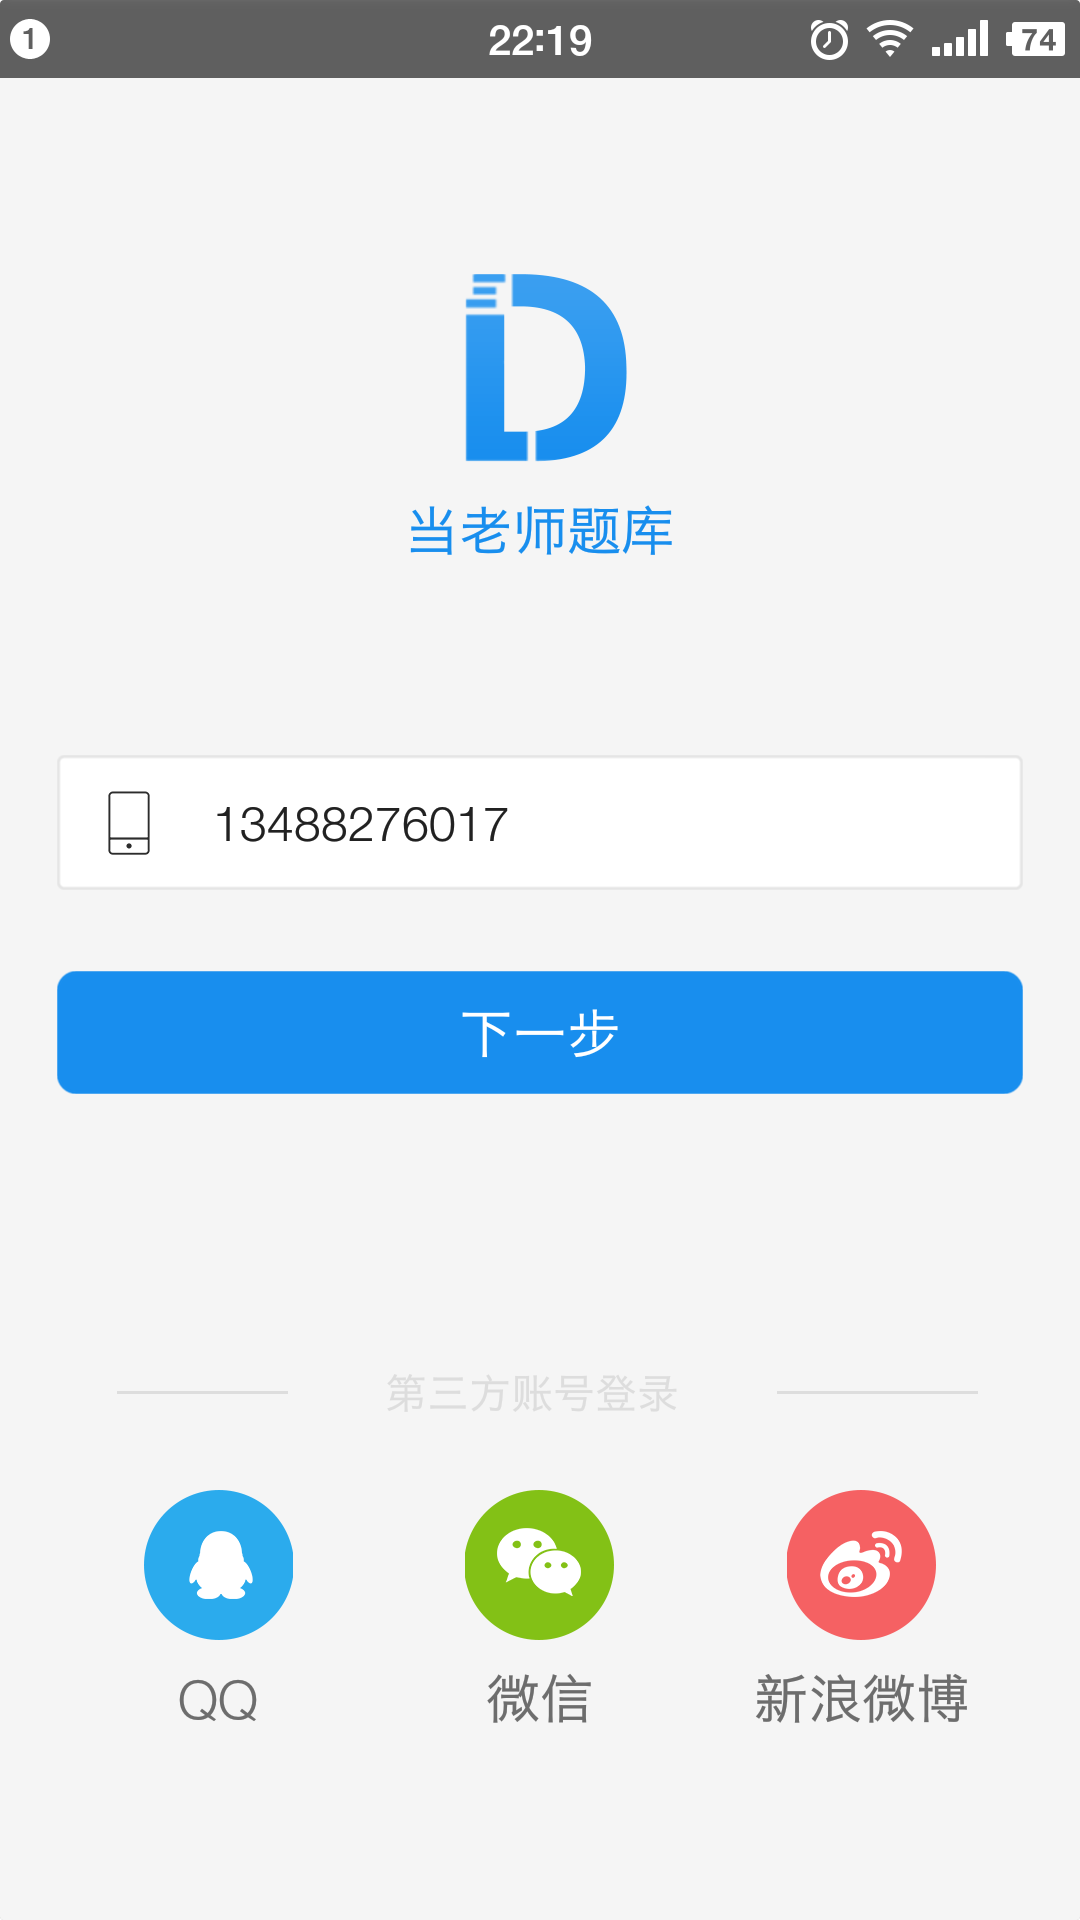imgview: (440, 257, 644, 480)
